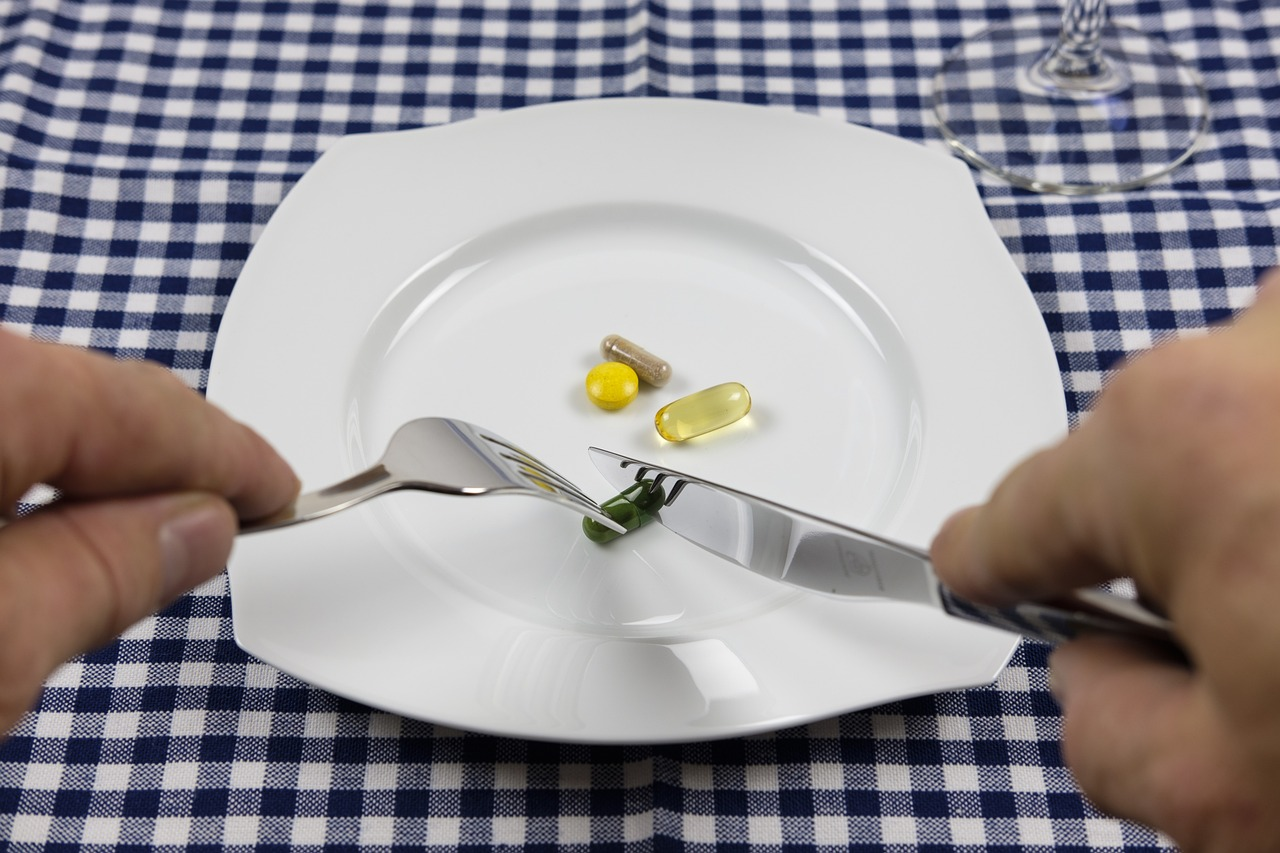knife: (571, 441, 1280, 723)
